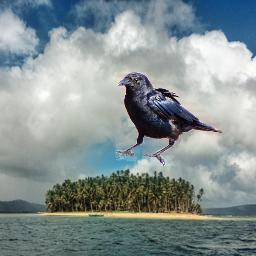Crow: (115, 72, 222, 166)
